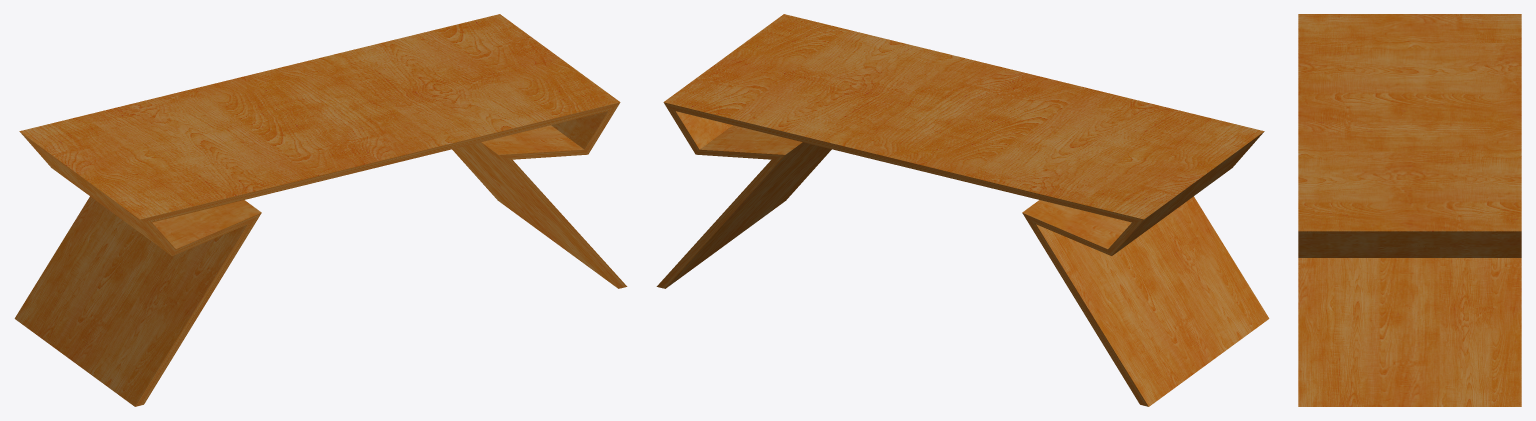
File: Table 8.dae
3 views of the same model, side by side, from view 1: azimuth 30°, elevation 25°; view 2: azimuth 150°, elevation 25°; view 3: azimuth 270°, elevation 25° (orthographic). The views are drawn at different scales.
Visible parts, largest first — view 1: Table; view 2: Table; view 3: Table.
Part boxes in pixels (x1,y1,x2,y2): Table: (14, 14, 627, 406); Table: (656, 14, 1269, 406); Table: (1298, 14, 1521, 406).
Size of what is drawn, in the model's own units: 3.32 by 1.41 by 1.2.
1 material, 1 textured.
